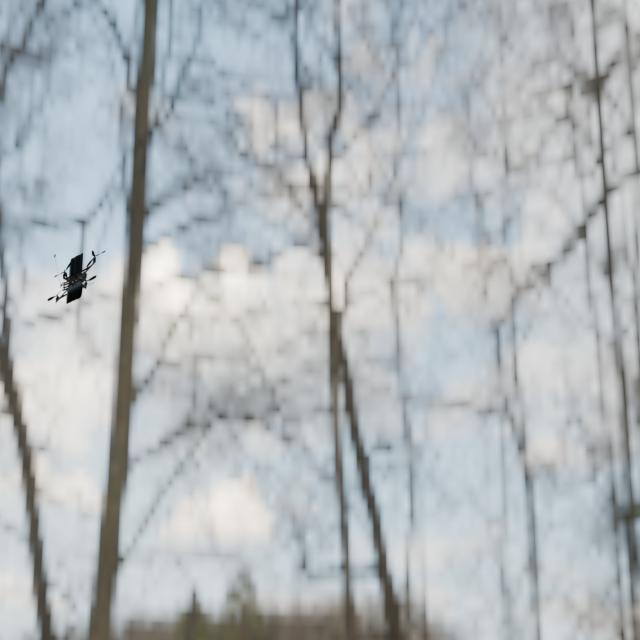drone: (47, 250, 106, 304)
